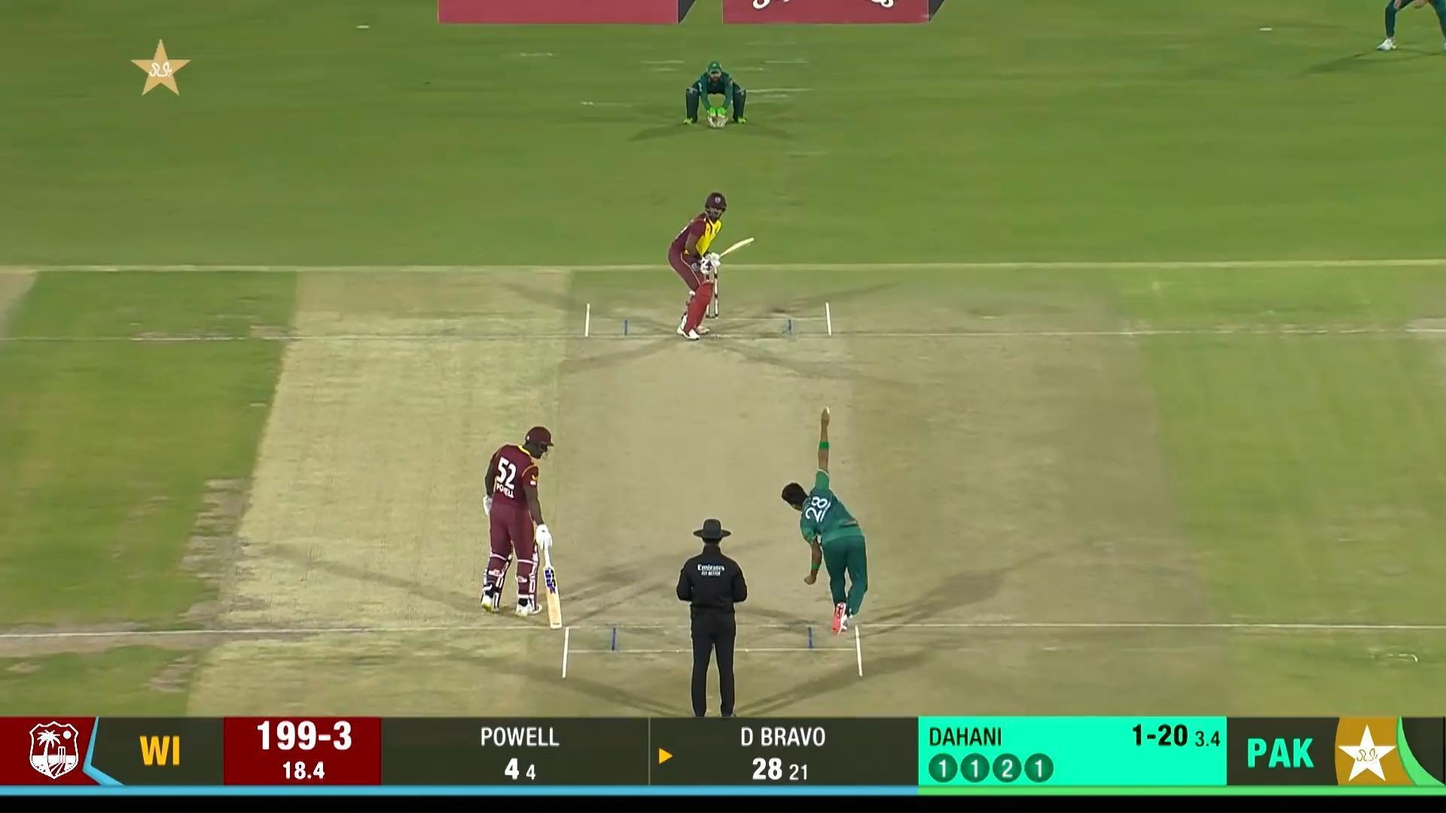BM 1: (667, 191, 755, 341)
BO: (779, 404, 870, 637)
